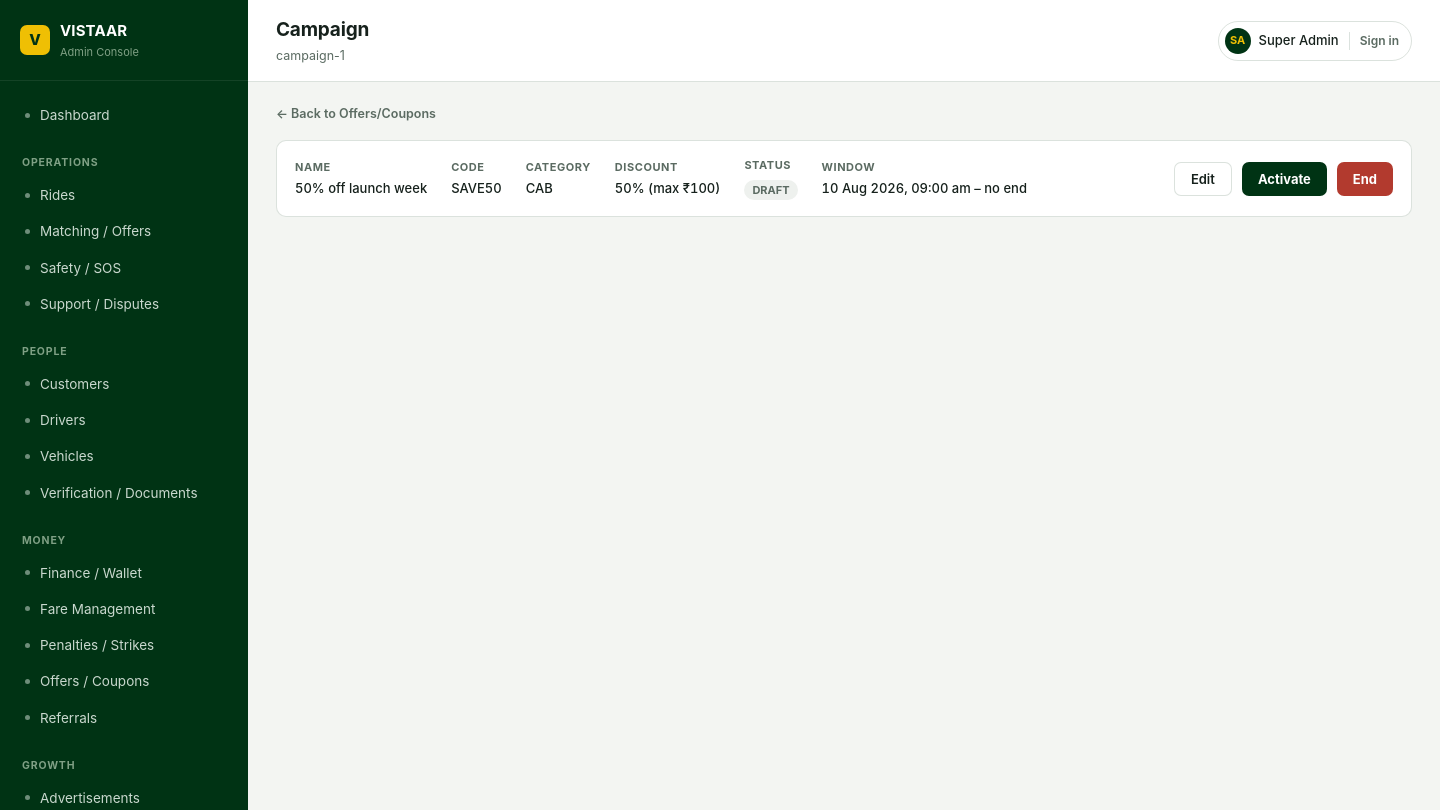
Test case: CampaignDetailPage › edits a DRAFT campaign and returns to the summary view
Click the button "Edit".
click(1203, 178)  # box [1174,162,1232,196]
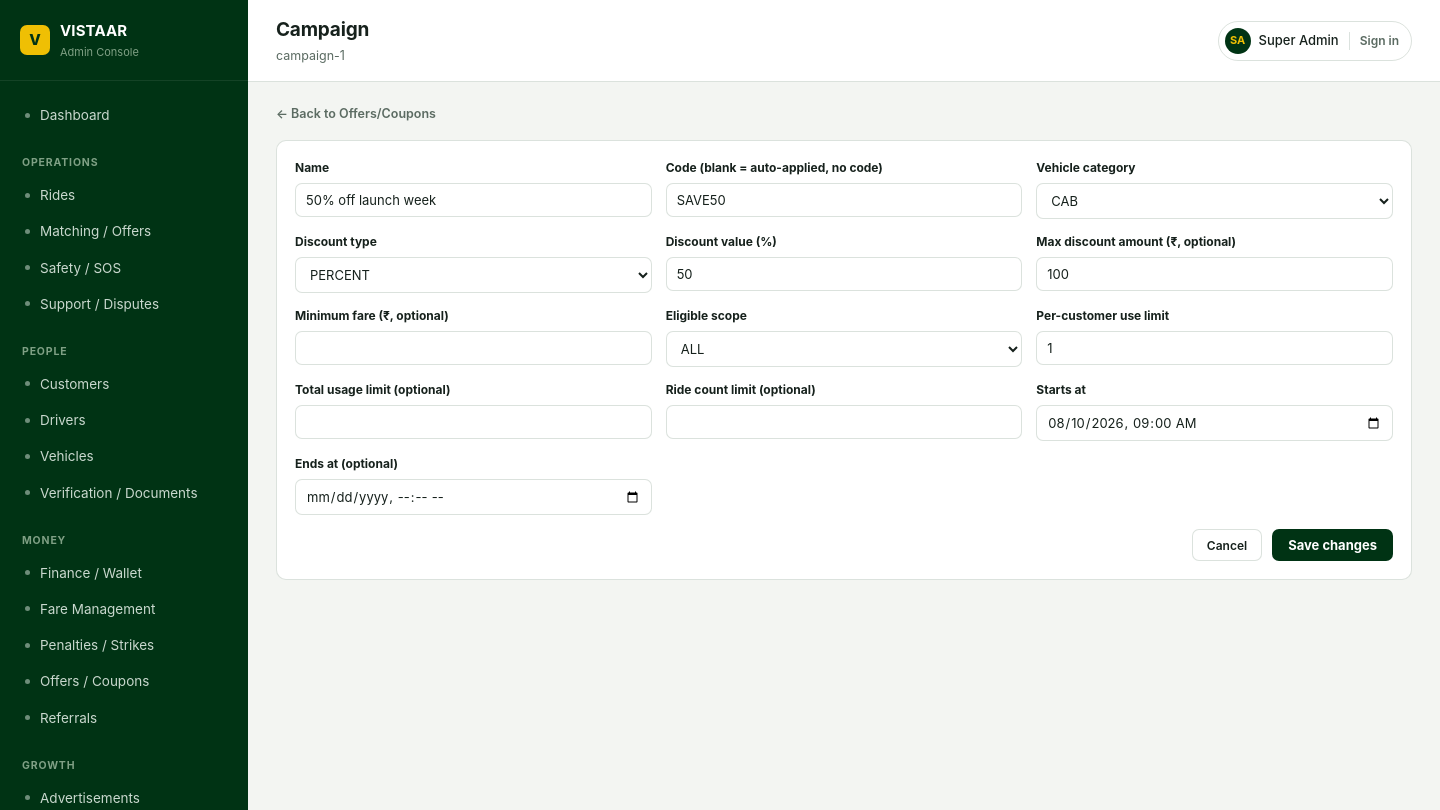
Replace the text in the field labelled "Name" with "Updated name" at x=473, y=200, box [295,183,652,217]
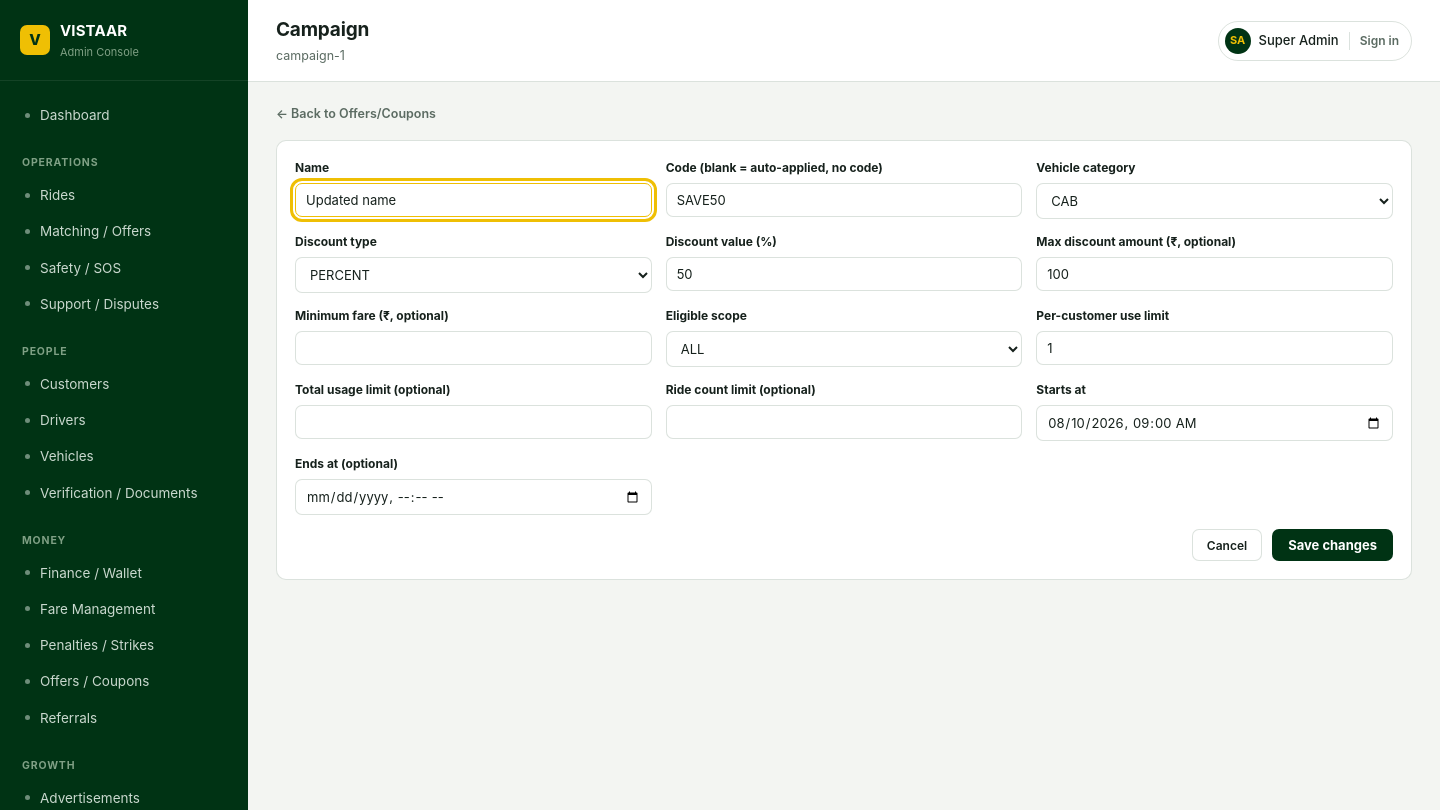
Click the button "Save changes".
click(1333, 545)  # box [1272,529,1393,561]
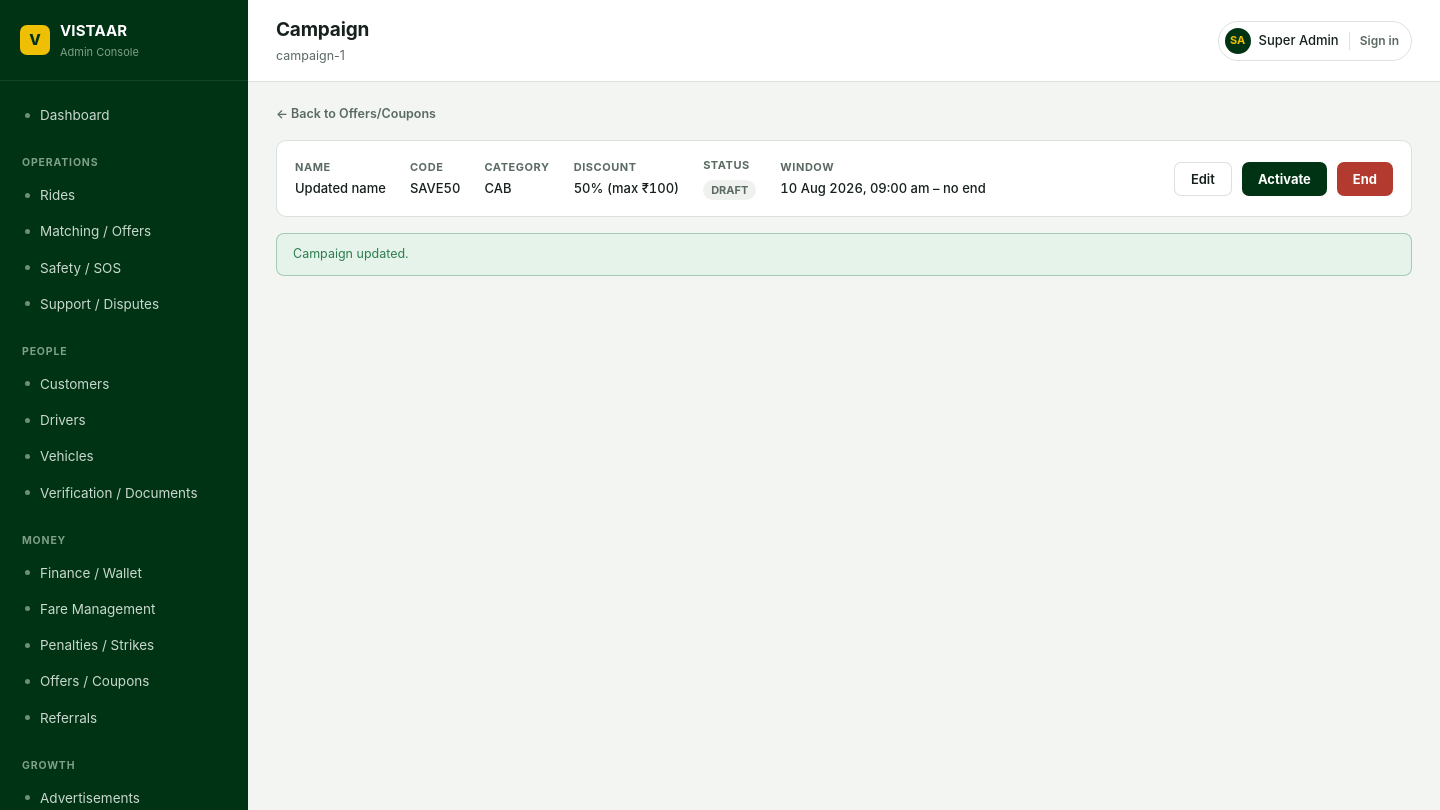
Expected: the text "Updated name" is shown, [295,179,386,198]
Expected: the text "Campaign updated." is shown, [276,233,1412,276]
